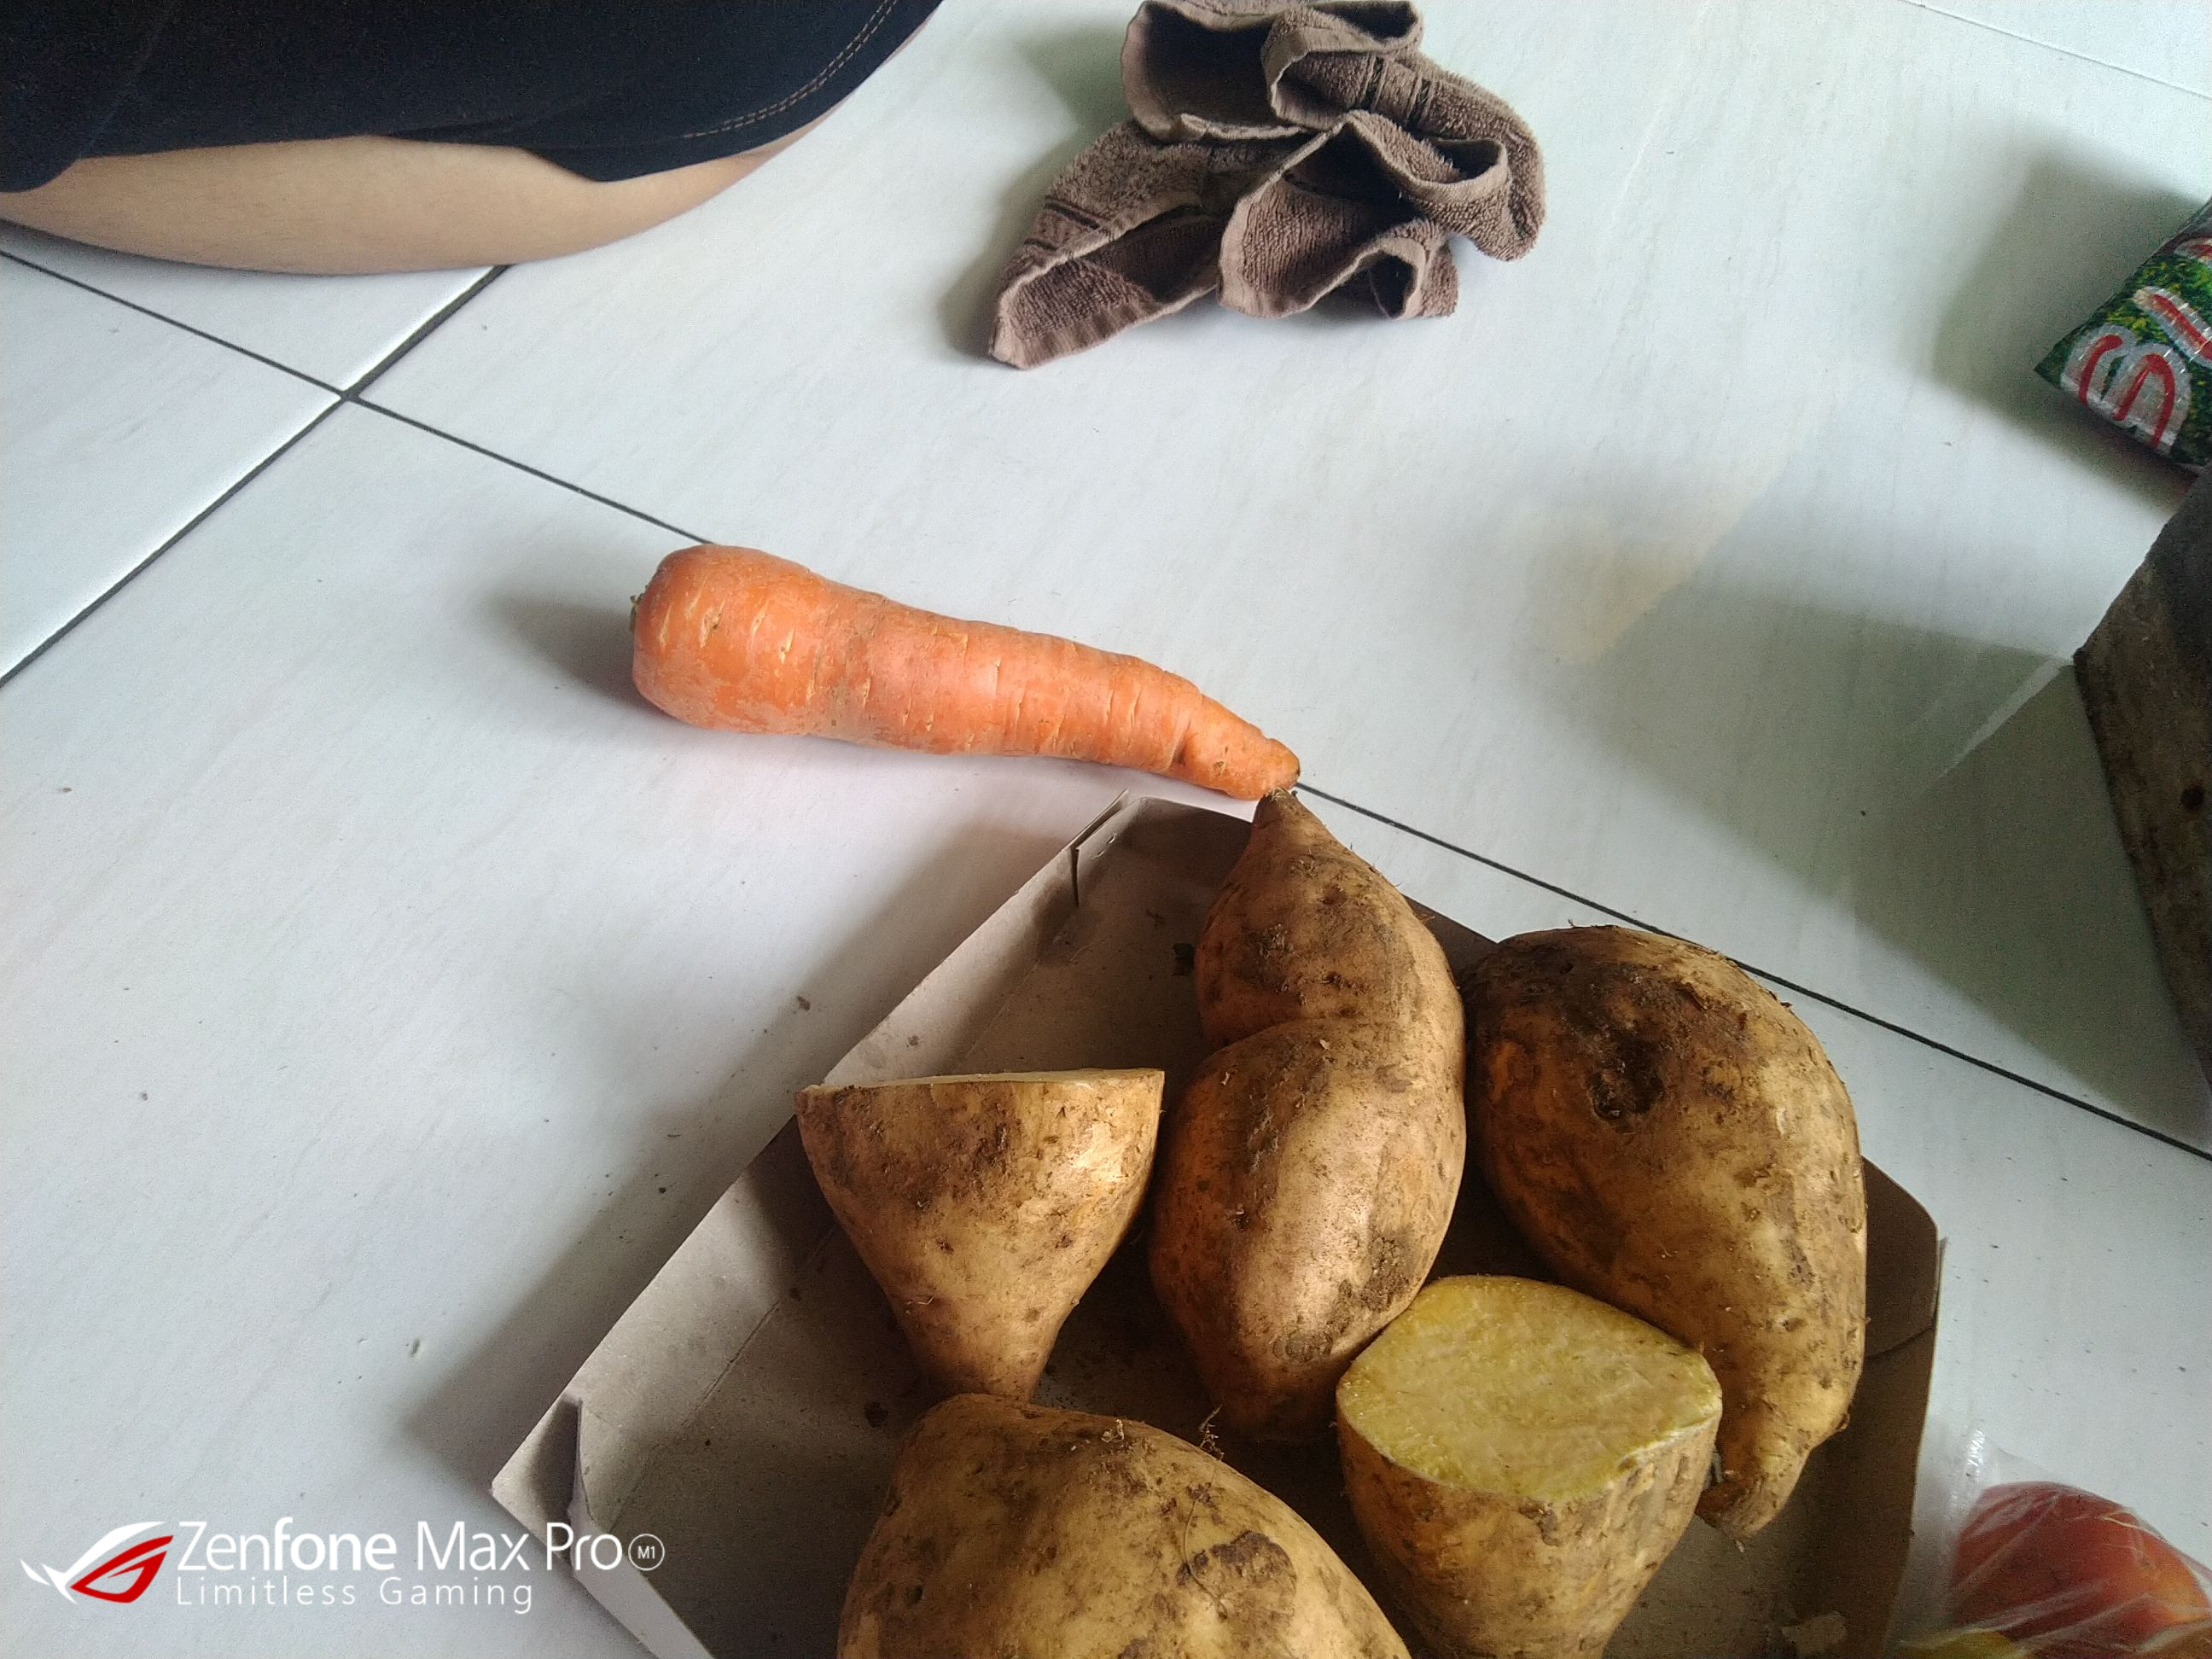ubi kuning: (1447, 911, 1893, 1554), (1163, 781, 1474, 1410), (1315, 1256, 1735, 1654), (815, 1398, 1428, 1656), (772, 1051, 1174, 1408)
